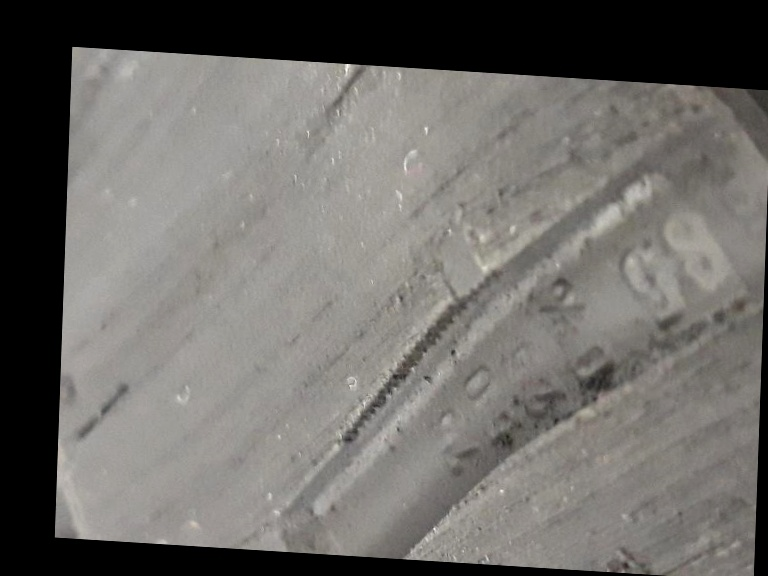temoin:0: (422, 226, 508, 331)
